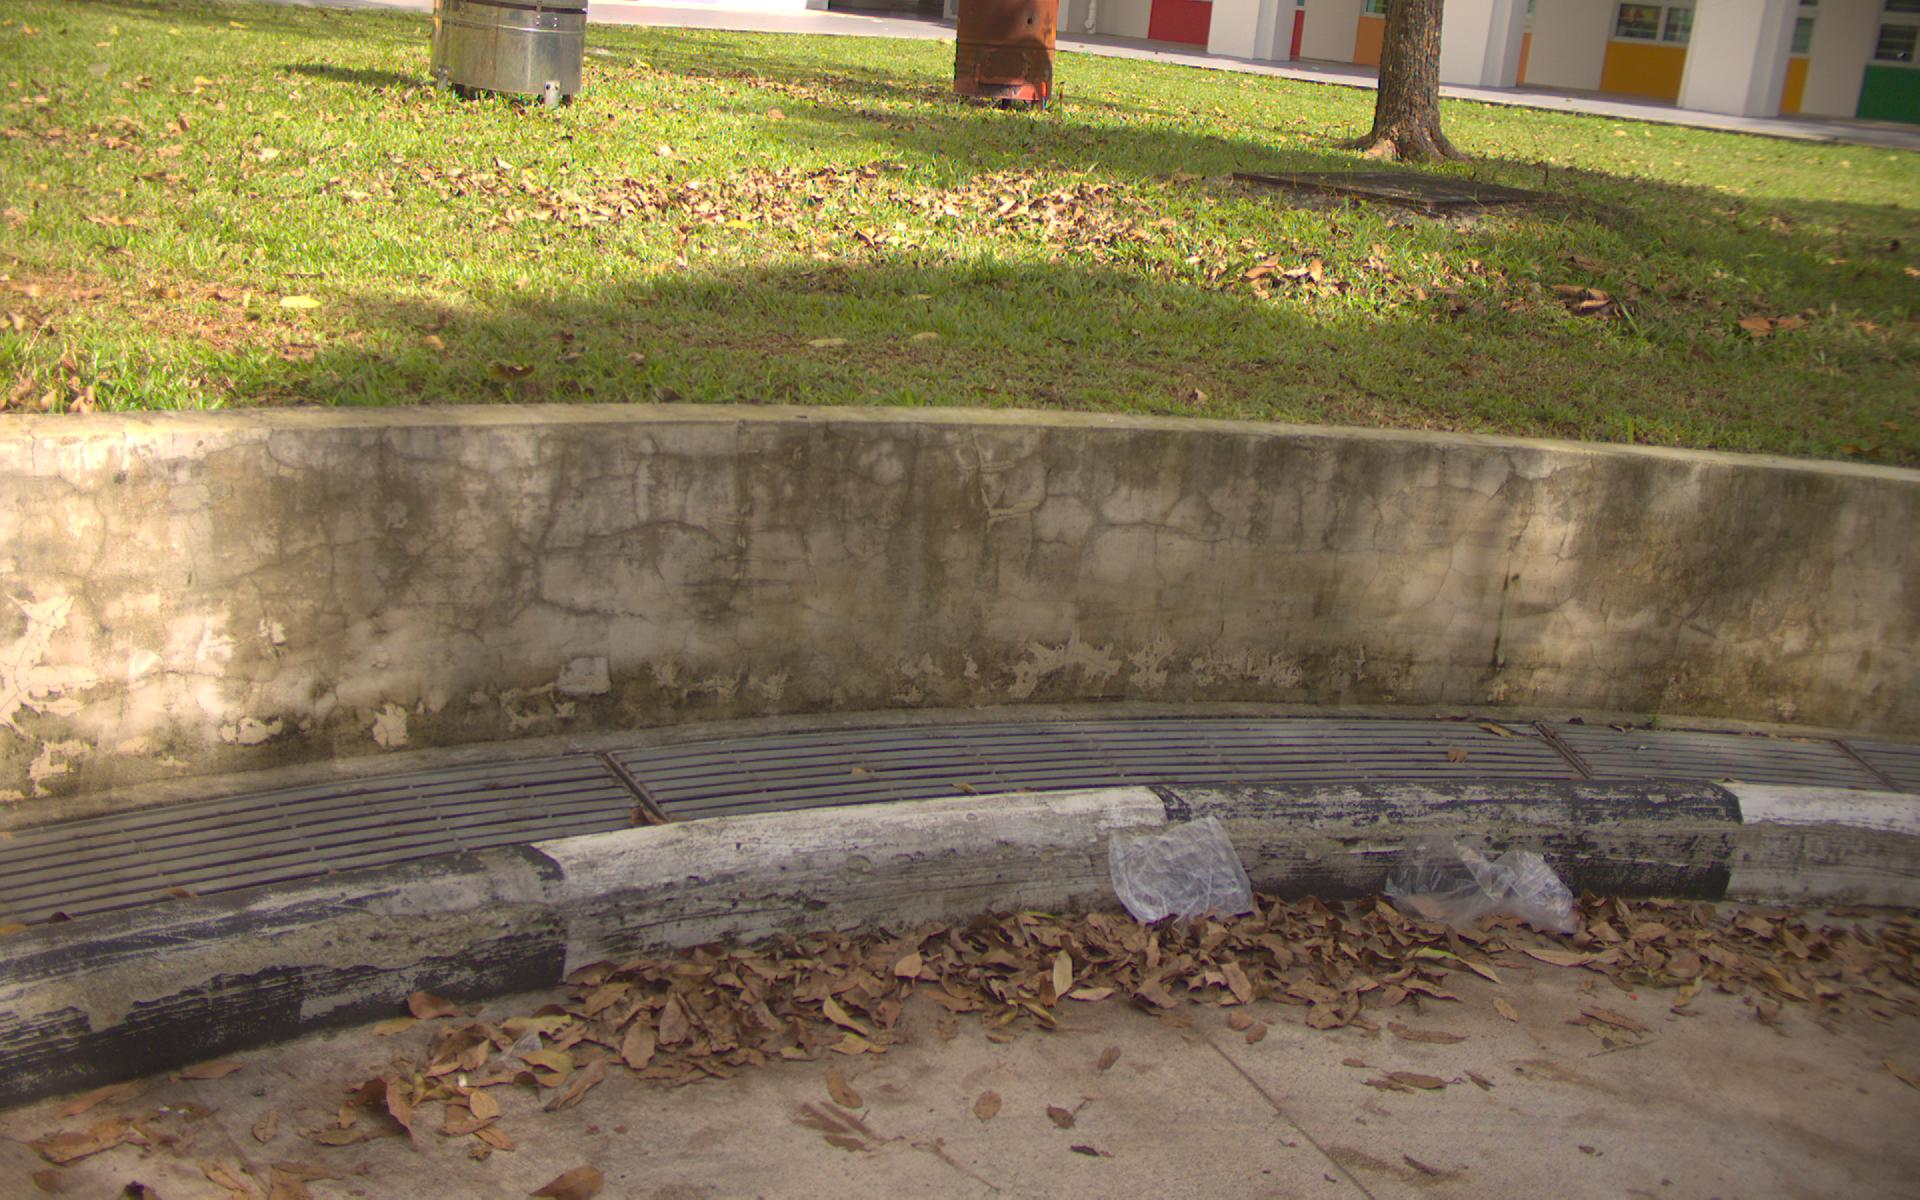curb_dic_low: (58, 704, 1920, 799)
road_curb_medium: (456, 863, 1917, 1096)
road_turf_low: (8, 77, 1910, 397)
